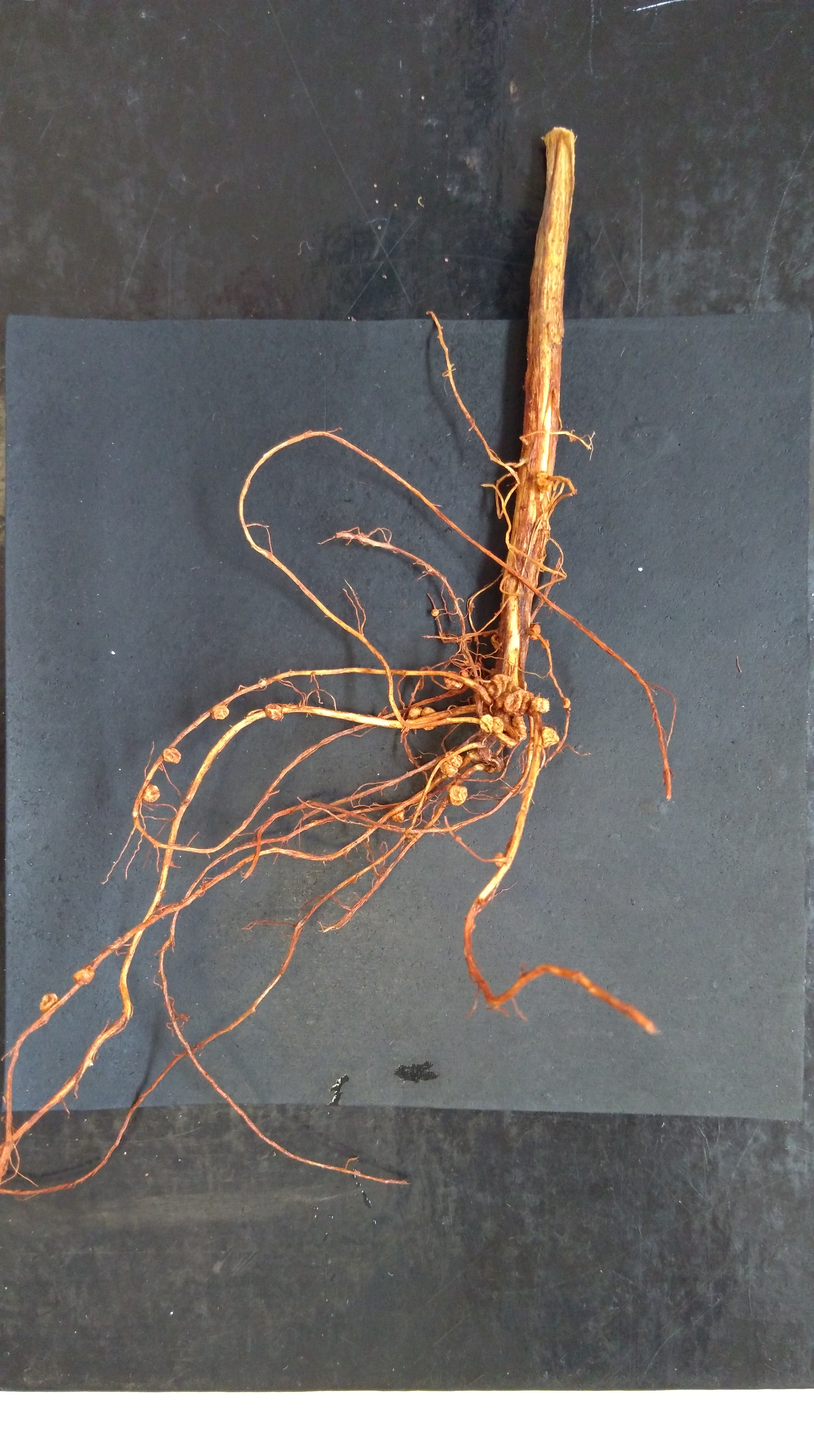nodule: (502, 688, 534, 717), (482, 672, 512, 699), (69, 964, 96, 986), (539, 724, 560, 750), (37, 992, 60, 1015), (446, 783, 468, 807), (141, 782, 162, 804), (442, 670, 464, 691), (263, 702, 285, 722), (160, 745, 182, 765), (511, 716, 527, 742), (531, 696, 551, 715), (209, 704, 230, 721), (444, 750, 463, 768), (439, 761, 459, 778), (478, 713, 494, 734), (491, 715, 504, 734), (493, 851, 506, 868), (391, 808, 406, 822), (407, 706, 422, 719), (420, 706, 437, 717), (490, 633, 500, 650), (561, 696, 572, 711), (541, 638, 551, 650), (532, 623, 541, 635), (430, 608, 439, 617), (461, 667, 469, 677), (529, 634, 538, 642)
